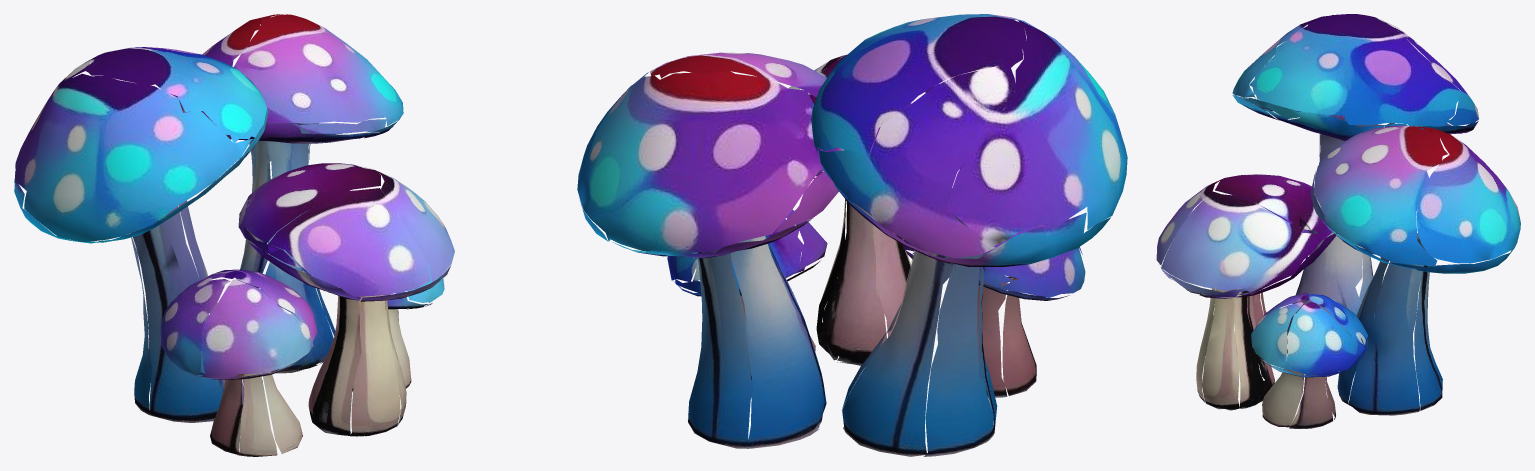
File: murekkep_mantar.glb
3 renders of one model, left to right at view 1: azimuth 30°, elevation 25°; view 2: azimuth 150°, elevation 25°; view 3: azimuth 270°, elevation 25°, orthographic. The views are drawn at different scales.
Visible parts, largest first — view 1: geometry_0; view 2: geometry_0; view 3: geometry_0.
Part boxes in pixels (x1=…): geometry_0: x1=14, y1=14, x2=454, y2=456; geometry_0: x1=577, y1=14, x2=1127, y2=456; geometry_0: x1=1156, y1=14, x2=1520, y2=428.
Size of the model in its own units: 0.9668 by 0.8002 by 0.8664.
Materials: 1 (1 with a texture image).
